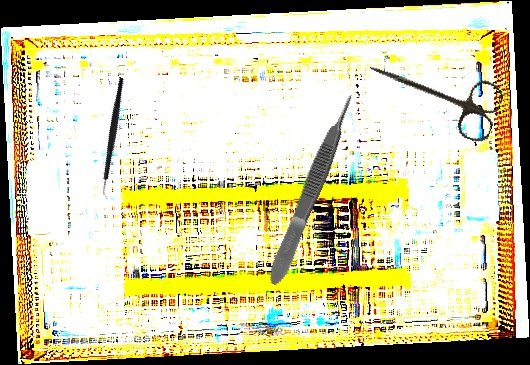Chopper: (63, 76, 166, 201)
Iris Scissors: (358, 41, 507, 146)
Tissue Forceps: (262, 91, 363, 288)
